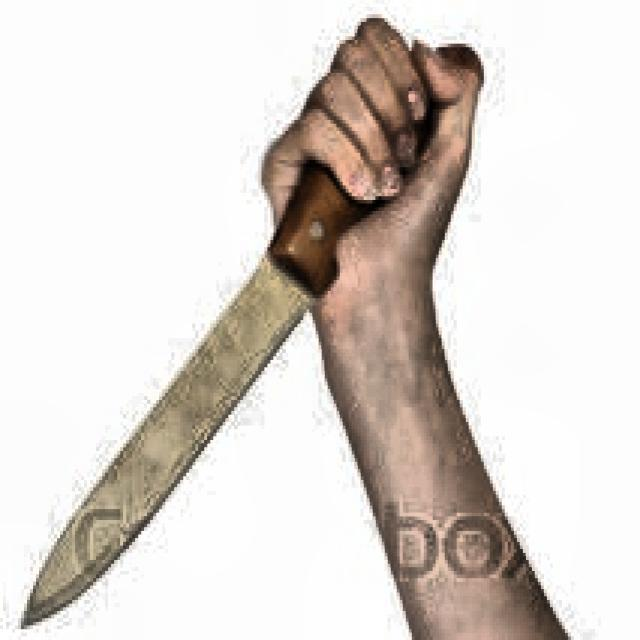knife: (19, 48, 481, 628)
